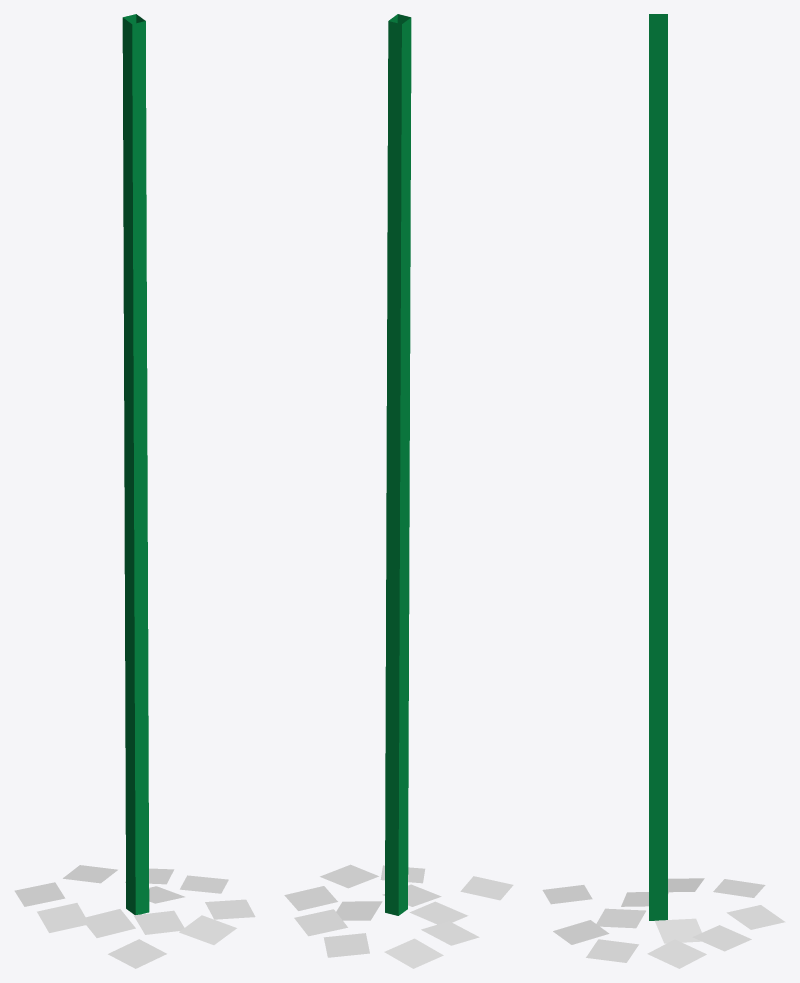
File: grass.glb
The picture shows the model from 3 angles, left to right: view 1: azimuth 30°, elevation 25°; view 2: azimuth 150°, elevation 25°; view 3: azimuth 270°, elevation 25°; orthographic projection.
Parts seen in each view (by area): view 1: grass, grass_copy.002, grass_copy.001, grass_copy.007, grass_copy, grass_copy.006, grass_copy.003, grass_copy.008, grass_copy.010, grass_copy.004; view 2: grass, grass_copy.008, grass_copy.004, grass_copy.009, grass_copy.010, grass_copy.007, grass_copy.002, grass_copy.005, grass_copy.003, grass_copy; view 3: grass, grass_copy.010, grass_copy.005, grass_copy.003, grass_copy.004, grass_copy.009, grass_copy.006, grass_copy.001, grass_copy.007, grass_copy.008.
Boxes of the visible parts, x1,y1,x2,y2 form: grass: (122, 14, 149, 914); grass_copy.002: (37, 903, 89, 932); grass_copy.001: (179, 915, 236, 944); grass_copy.007: (108, 939, 166, 968); grass_copy: (86, 909, 135, 937); grass_copy.006: (133, 910, 184, 934); grass_copy.003: (205, 899, 255, 919); grass_copy.008: (14, 882, 65, 906); grass_copy.010: (180, 875, 228, 893); grass_copy.004: (63, 865, 117, 883); grass: (385, 14, 411, 915); grass_copy.008: (384, 938, 443, 968); grass_copy.004: (323, 933, 369, 957); grass_copy.009: (294, 909, 347, 936); grass_copy.010: (284, 886, 337, 910); grass_copy.007: (460, 876, 513, 900); grass_copy.002: (421, 921, 479, 945); grass_copy.005: (336, 901, 382, 920); grass_copy.003: (320, 864, 378, 888); grass_copy: (409, 901, 468, 924); grass: (649, 14, 667, 920); grass_copy.010: (647, 939, 706, 968); grass_copy.005: (655, 918, 701, 943); grass_copy.003: (586, 939, 638, 962); grass_copy.004: (726, 905, 785, 929); grass_copy.009: (692, 925, 751, 951); grass_copy.006: (596, 908, 645, 928); grass_copy.001: (553, 920, 609, 944); grass_copy.007: (542, 885, 592, 904); grass_copy.008: (713, 879, 765, 897).
Bounding box in the file's own units: 0.1287 × 0.5868 × 0.1434.
